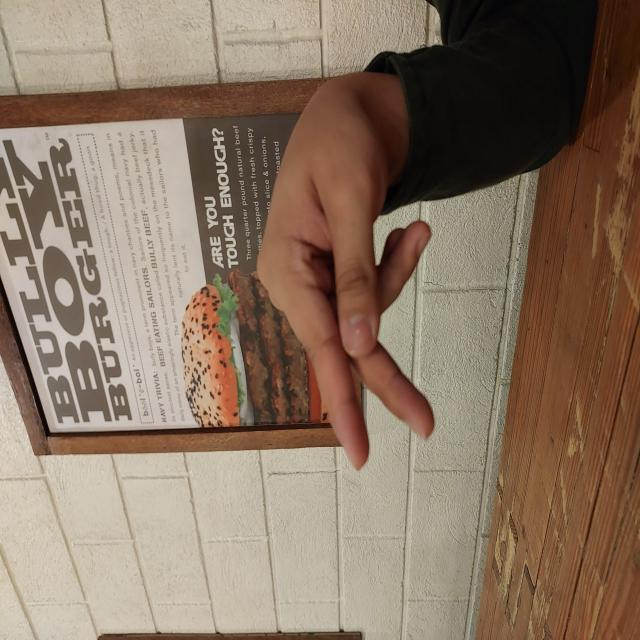P: (168, 256, 544, 435)
